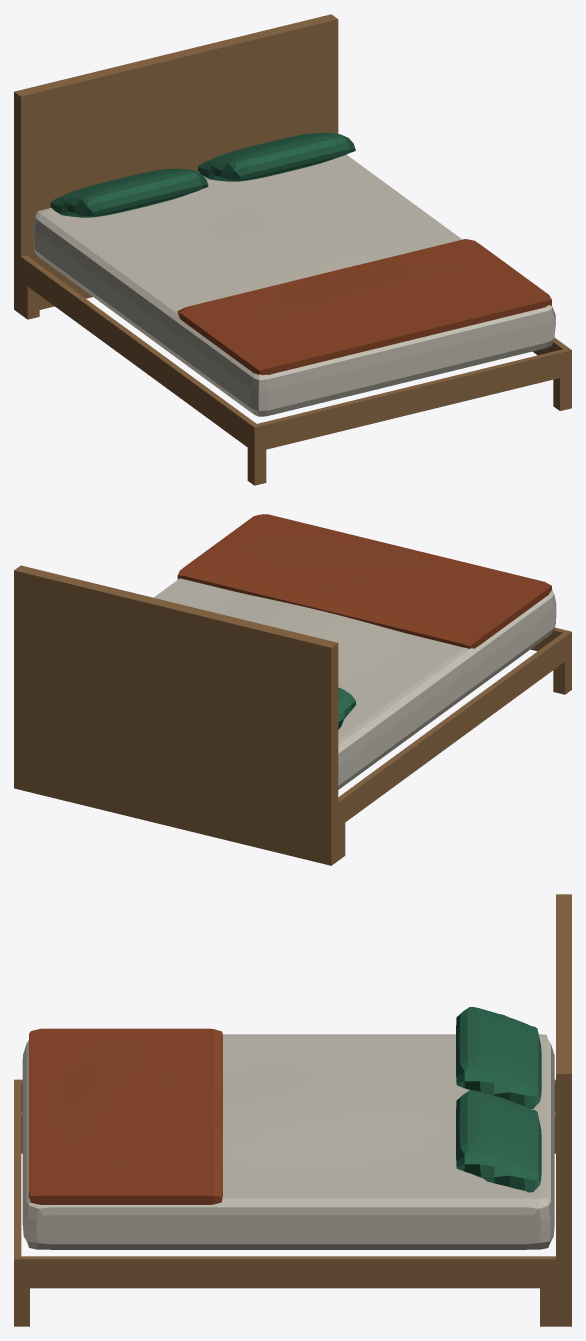
Rendered from FET-BED-queen.glb.
The picture shows the model from 3 angles, top to bottom: view 1: azimuth 30°, elevation 25°; view 2: azimuth 150°, elevation 25°; view 3: azimuth 270°, elevation 25°; orthographic projection. The views are drawn at different scales.
Parts seen in each view (by area): view 1: mattress:pbr, head:pbr, throw:pbr, foot:pbr, rail-l:pbr, pillow-l:pbr, pillow-r:pbr, leg-fl:pbr, leg-fr:pbr; view 2: head:pbr, throw:pbr, mattress:pbr, rail-l:pbr, leg-fl:pbr, pillow-l:pbr; view 3: mattress:pbr, throw:pbr, rail-r:pbr, pillow-r:pbr, pillow-l:pbr, head:pbr, foot:pbr, leg-hr:pbr, leg-fr:pbr.
Part boxes in pixels (x1=…): mattress:pbr: x1=33, y1=154, x2=555, y2=416; head:pbr: x1=14, y1=14, x2=338, y2=314; throw:pbr: x1=177, y1=239, x2=551, y2=375; foot:pbr: x1=257, y1=349, x2=566, y2=450; rail-l:pbr: x1=21, y1=255, x2=259, y2=452; pillow-l:pbr: x1=50, y1=168, x2=208, y2=217; pillow-r:pbr: x1=198, y1=132, x2=355, y2=181; leg-fl:pbr: x1=247, y1=448, x2=266, y2=485; leg-fr:pbr: x1=553, y1=375, x2=571, y2=410; head:pbr: x1=14, y1=565, x2=338, y2=865; throw:pbr: x1=177, y1=514, x2=551, y2=648; mattress:pbr: x1=153, y1=578, x2=556, y2=789; rail-l:pbr: x1=338, y1=630, x2=571, y2=827; leg-fl:pbr: x1=553, y1=657, x2=571, y2=694; pillow-l:pbr: x1=338, y1=687, x2=355, y2=729; mattress:pbr: x1=22, y1=1034, x2=554, y2=1249; throw:pbr: x1=29, y1=1028, x2=222, y2=1204; rail-r:pbr: x1=14, y1=1256, x2=555, y2=1288; pillow-r:pbr: x1=456, y1=1090, x2=541, y2=1192; pillow-l:pbr: x1=456, y1=1007, x2=541, y2=1108; head:pbr: x1=556, y1=894, x2=571, y2=1326; foot:pbr: x1=14, y1=1082, x2=21, y2=1256; leg-hr:pbr: x1=540, y1=1288, x2=555, y2=1326; leg-fr:pbr: x1=14, y1=1288, x2=29, y2=1326.
Size of the model in its own units: 1.6 by 1.05 by 2.1.
